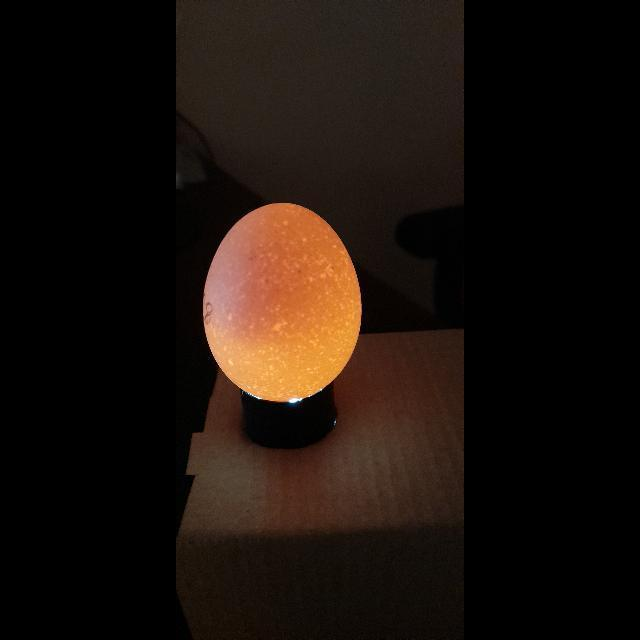A - Good: (188, 191, 376, 414)
